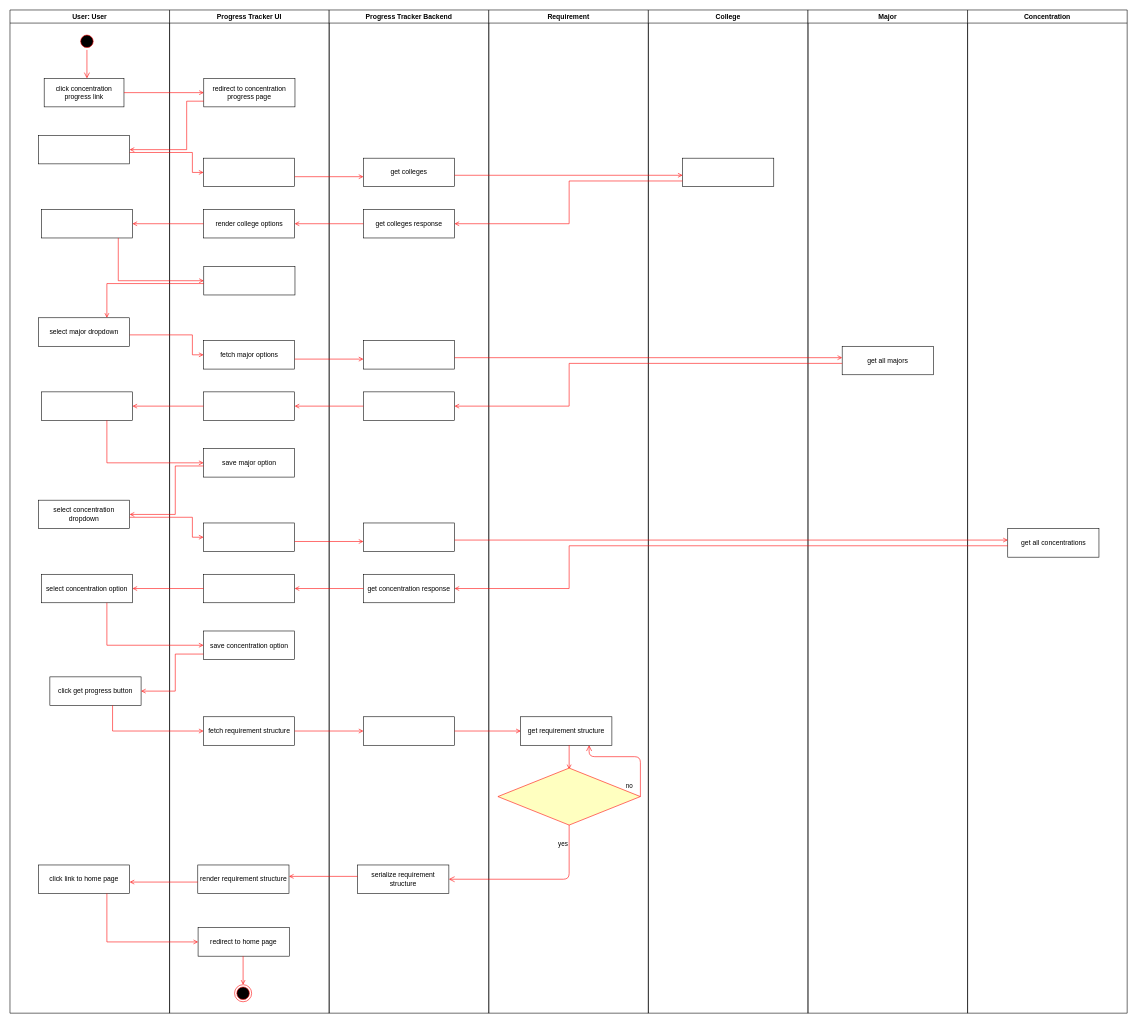
This 1137x1023 diagram has some shape labels left out. The shapes that lost their labels are listed below. From the top down, each one's centre as x and y in pixels, then its label:
(84,149): select college dropdown
(249,172): fetch college options
(728,172): get all colleges
(87,223): select college option
(249,280): save college option
(409,354): get majors
(87,405): select major option
(249,405): render major options
(409,405): get majors response
(249,536): fetch concentration options
(409,536): get concentrations
(249,588): render concentration options
(409,730): load requirement structure
(568,796): len(requirement.sub_requirements) == 0
